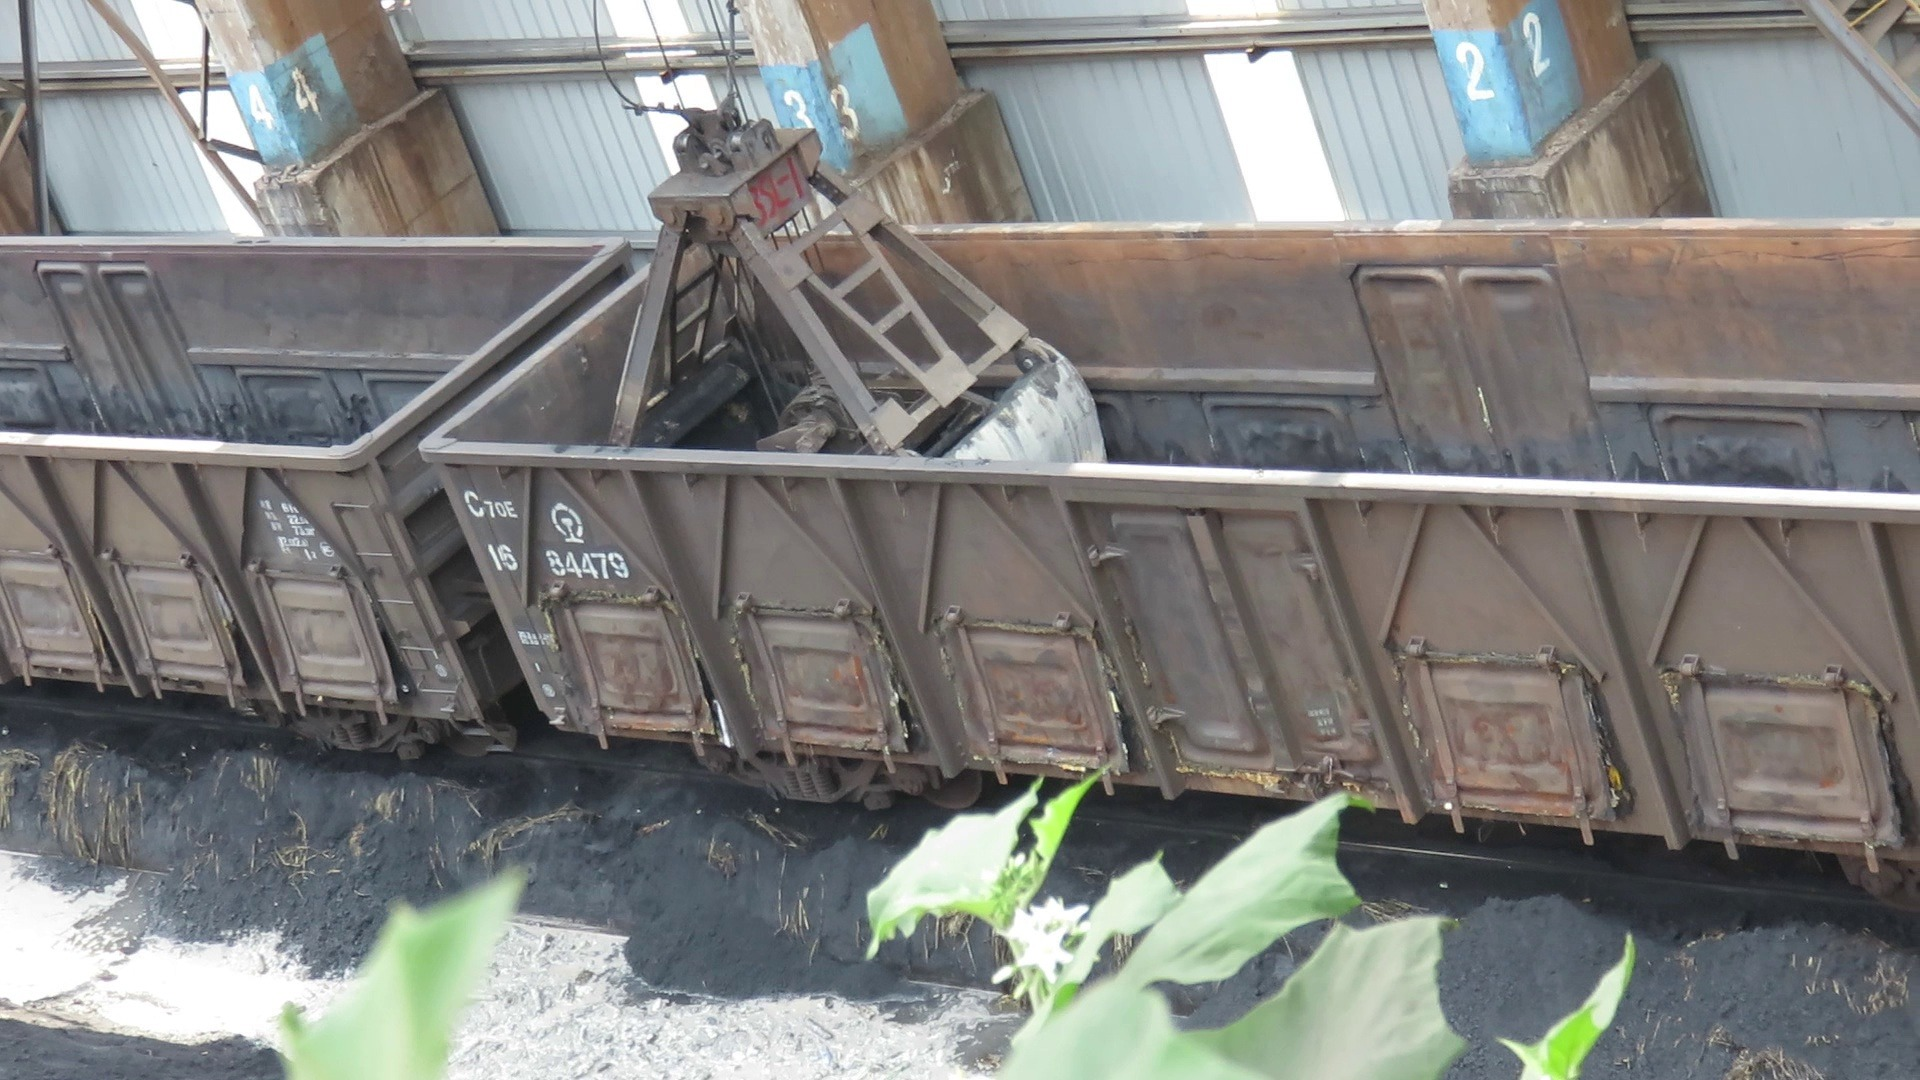grab: (589, 102, 1114, 483)
